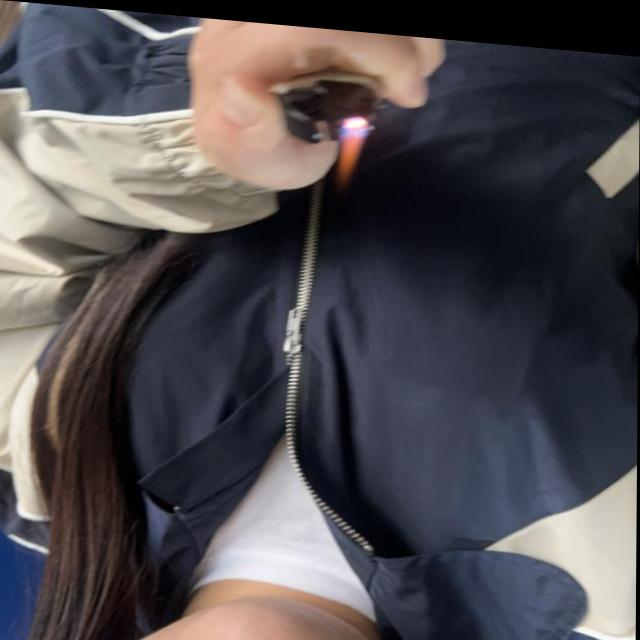Fire: (337, 110, 374, 185)
